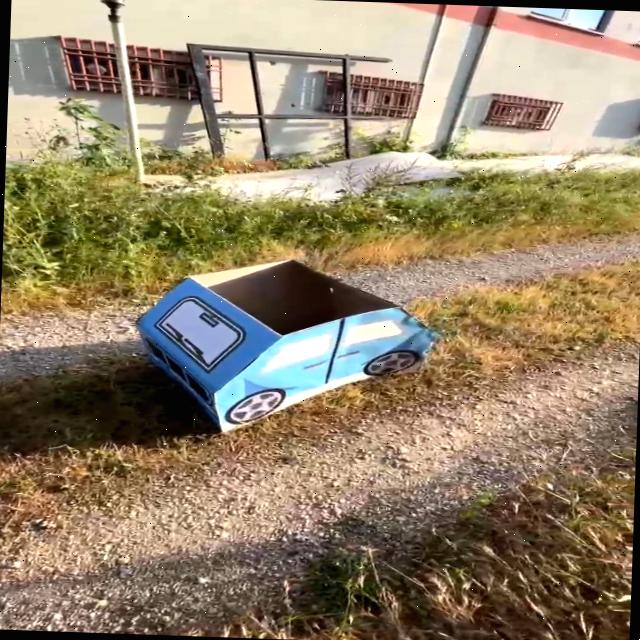blue_car: (111, 240, 485, 469)
